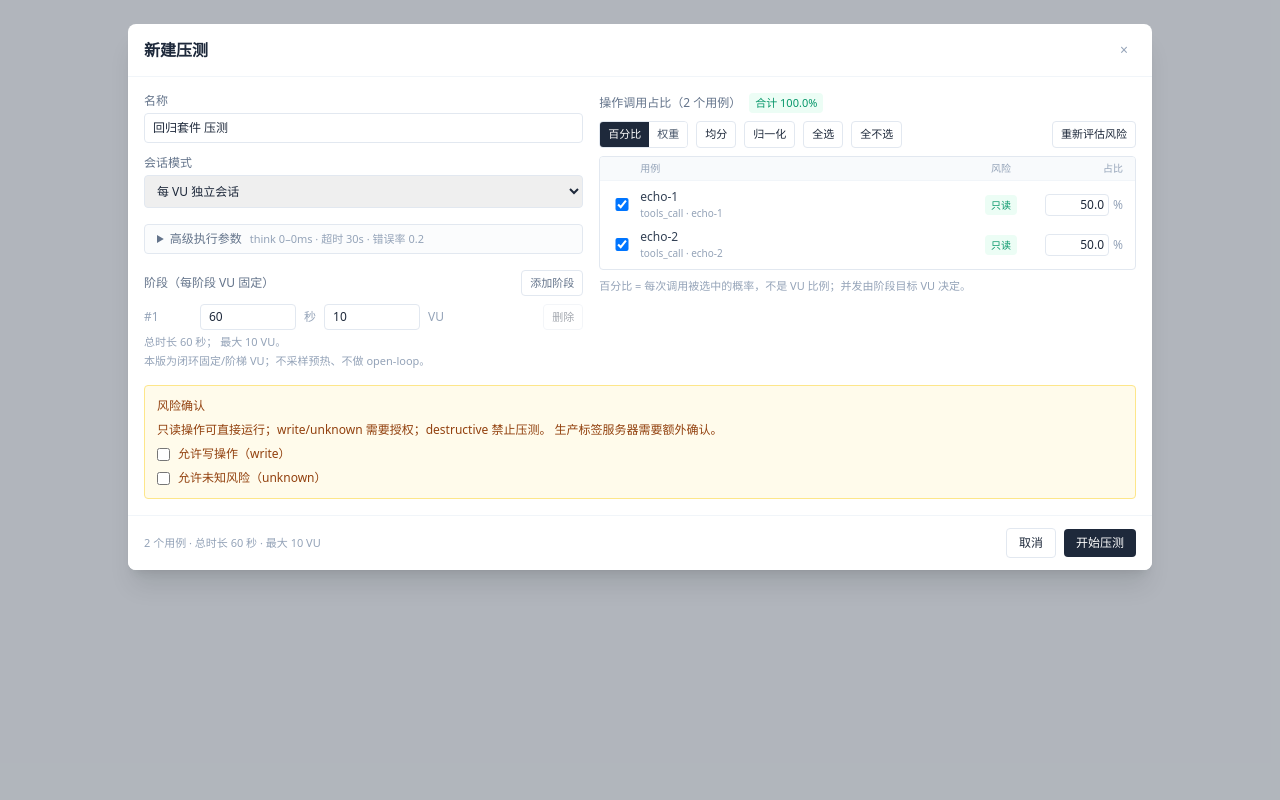
Test case: ProfileDialog 操作调用占比 › 0 与空值不合法
Expected: the button "开始压测" is enabled, 1064,529 -> 1136,557
Step 1. Clear the field named "用例 echo-1 的占比" → (1077, 204), box 1045,194 -> 1109,216
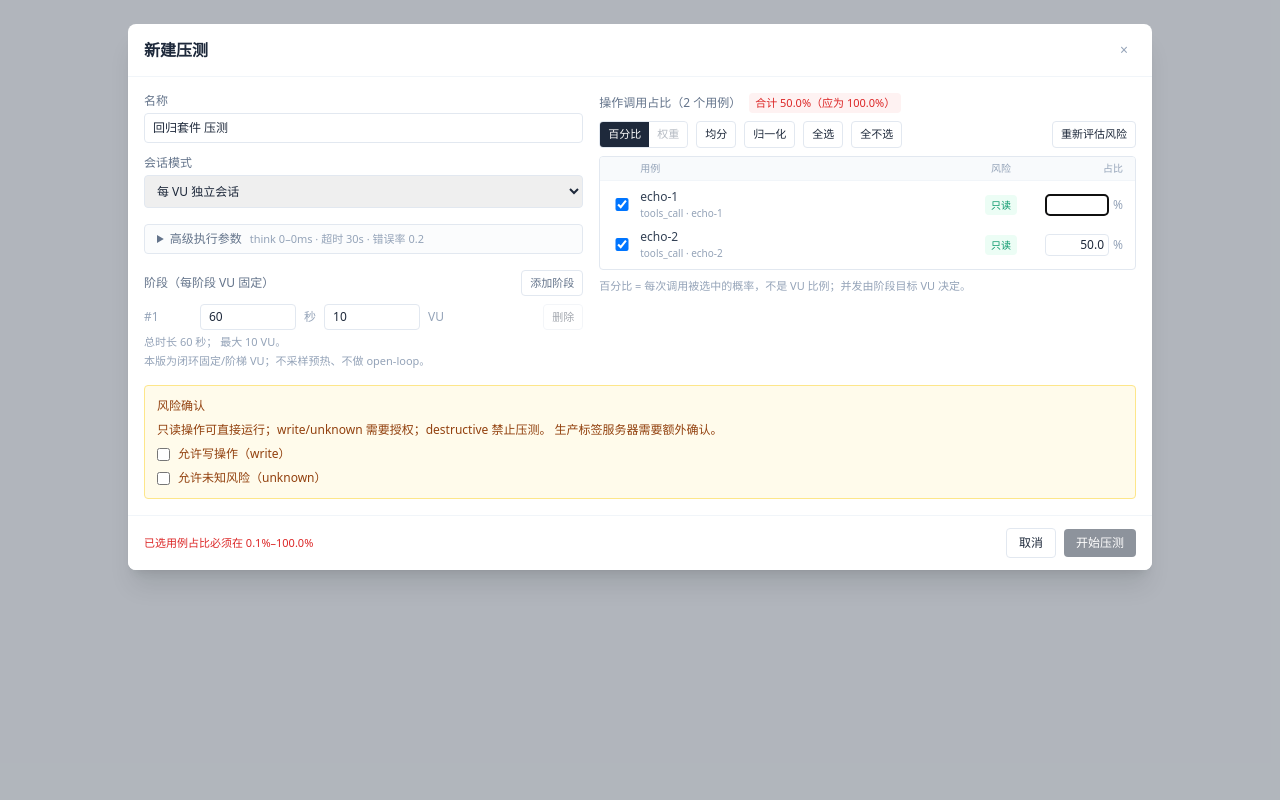
Now the text "已选用例占比必须在 0.1%–100.0%" is shown, box 144,535 -> 313,551
Now the button "开始压测" is disabled, box 1064,529 -> 1136,557
Step 2. Clear the field named "用例 echo-2 的占比" → (1077, 244), box 1045,234 -> 1109,256
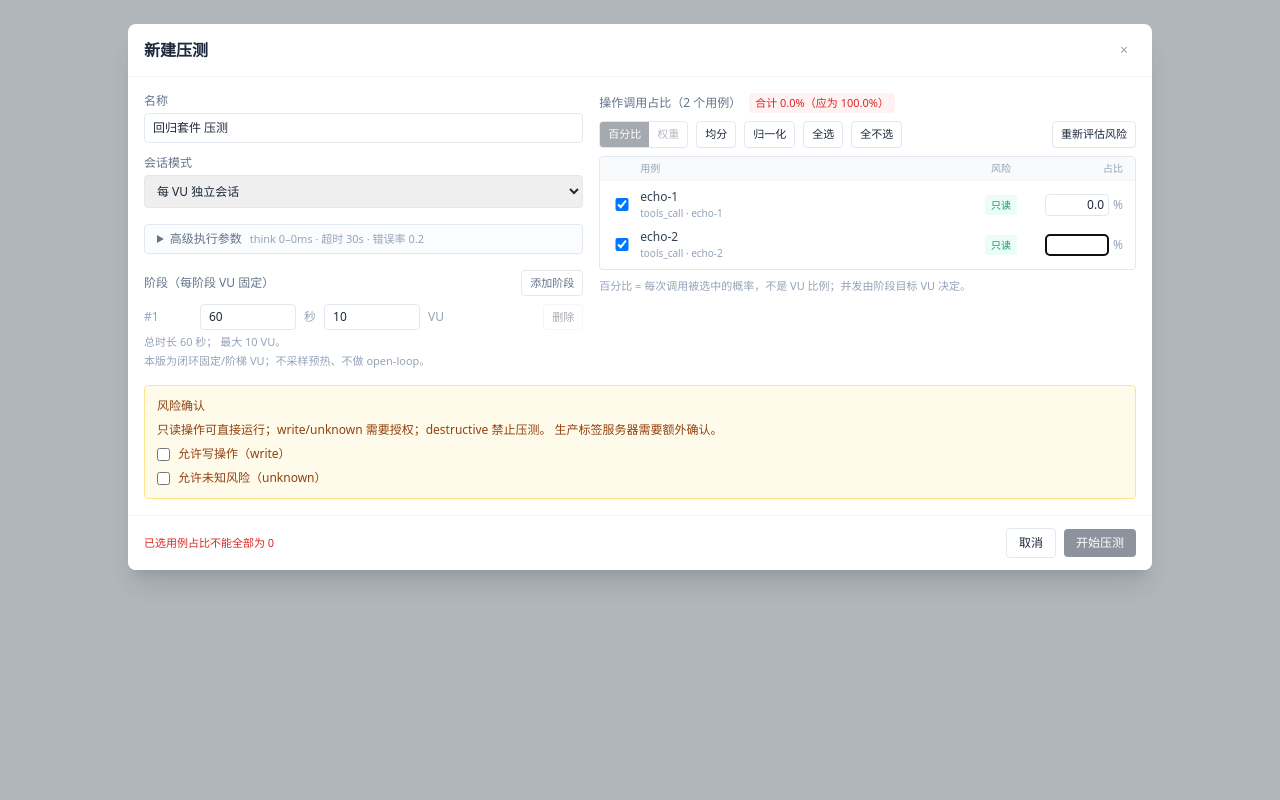
Now the text "已选用例占比不能全部为 0" is shown, box 144,535 -> 274,551
